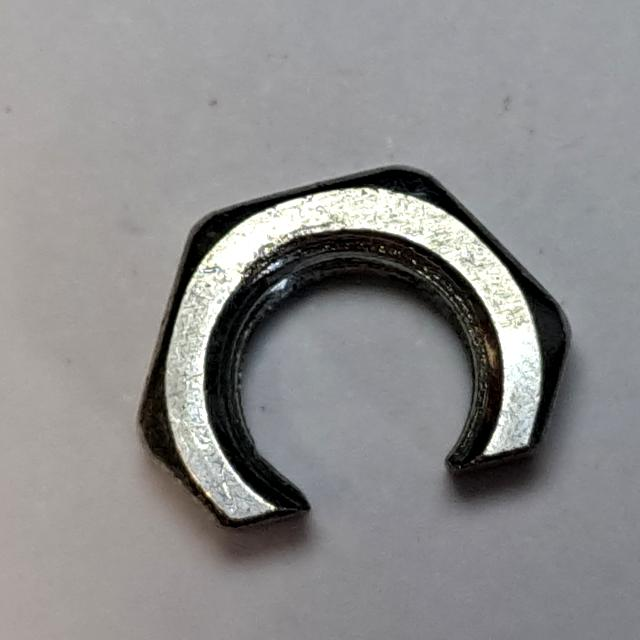Fracture: (121, 156, 583, 556)
